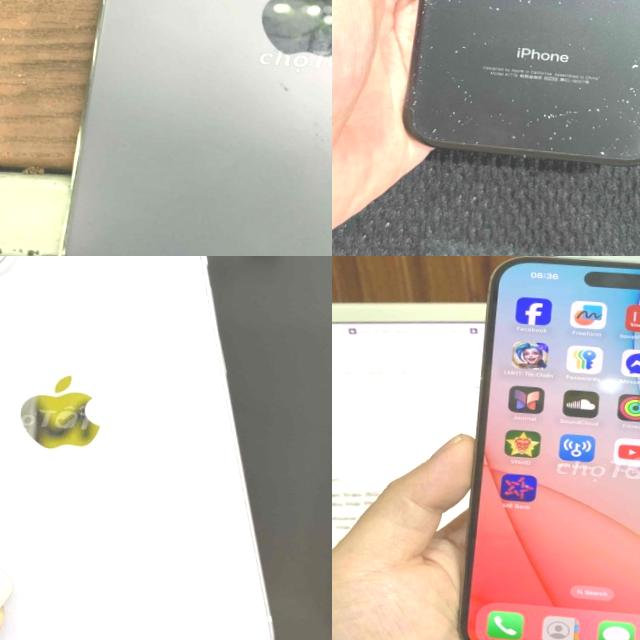gen_14: (0, 256, 315, 640), (430, 256, 640, 640), (41, 0, 332, 256)
gen_7_8: (396, 0, 640, 177)
